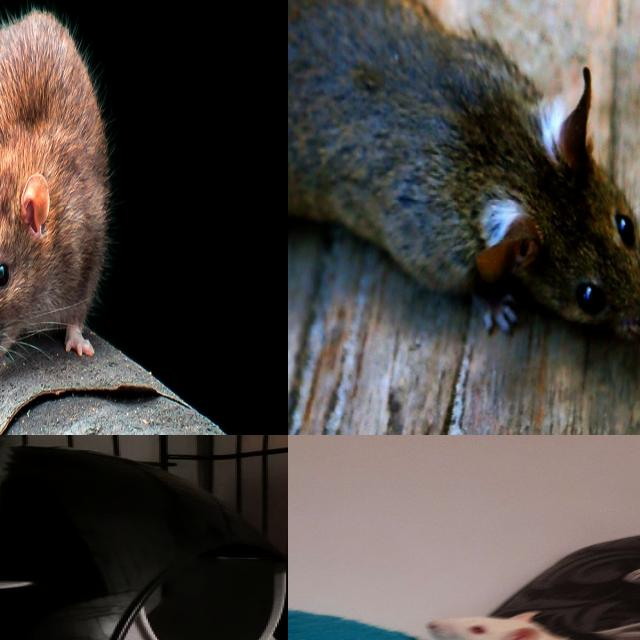rat: (288, 0, 640, 337), (0, 0, 123, 371)
